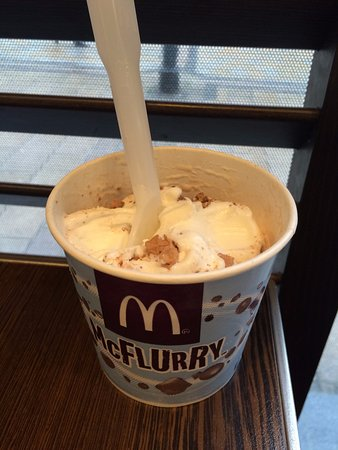mcdonalds: (114, 291, 184, 340)
